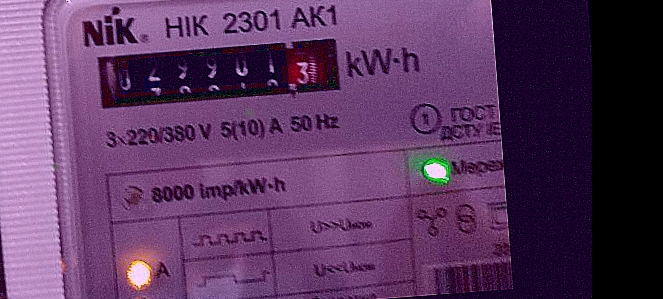0: (113, 63, 133, 91), (231, 48, 249, 78)
1: (262, 45, 277, 74)
2: (143, 55, 163, 83)
3: (292, 57, 311, 85)
9: (172, 53, 190, 81), (203, 51, 218, 79)
screen: (87, 26, 351, 118)
